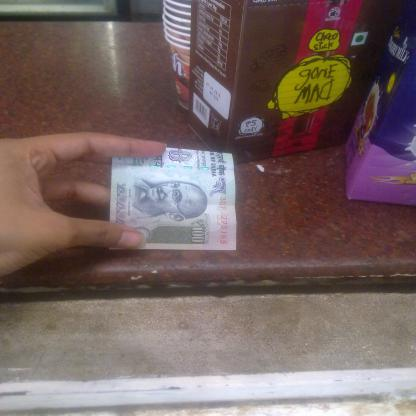Old100Front: (108, 147, 238, 251)
